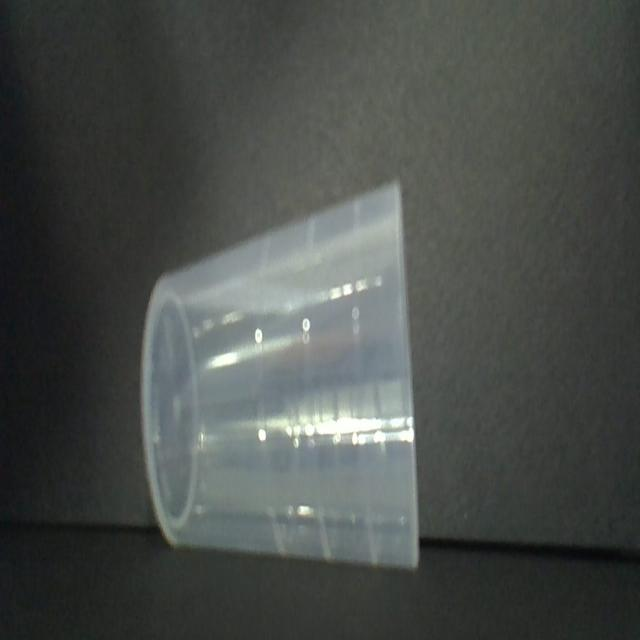cup: (136, 170, 437, 582)
